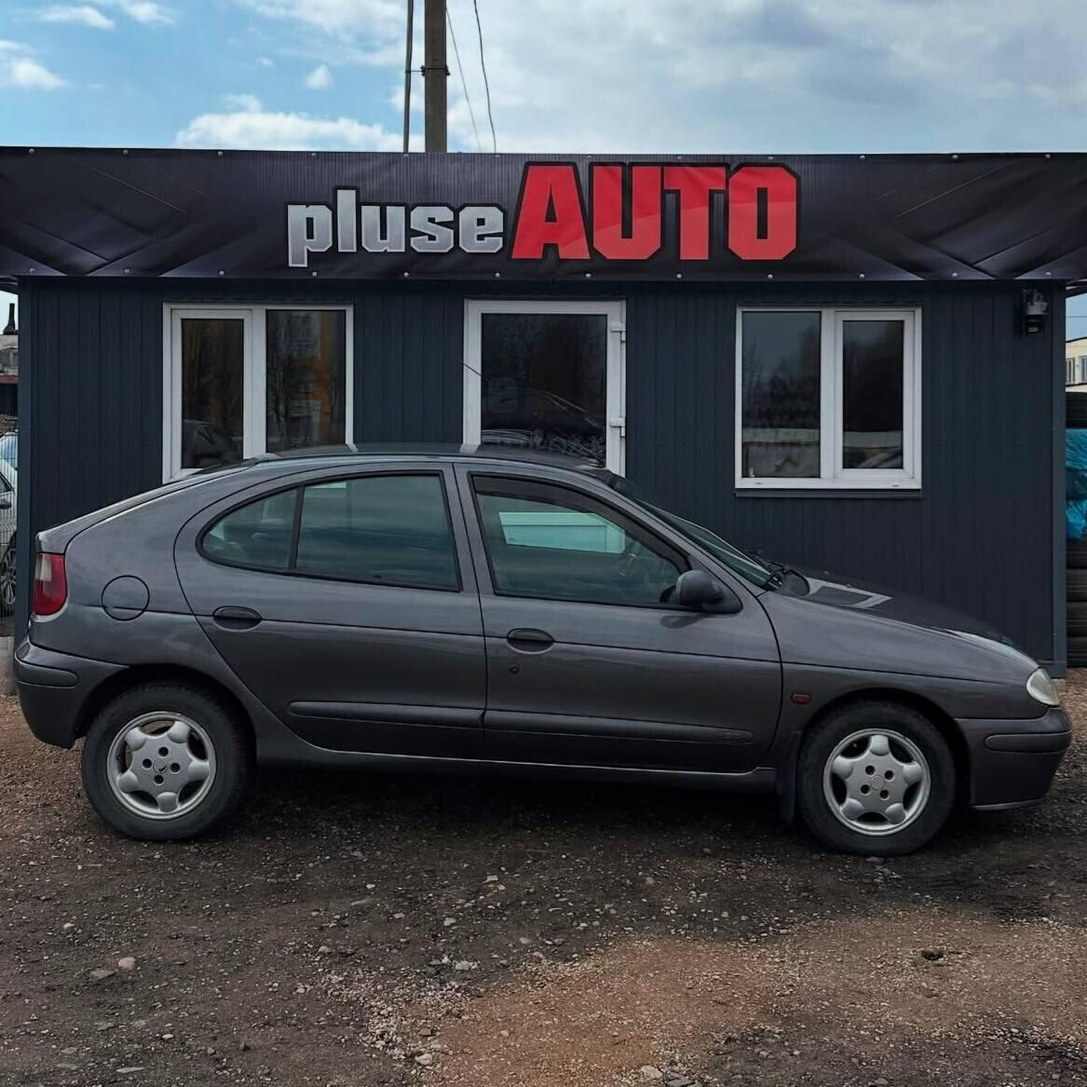Megane_1999-2003: (17, 447, 1071, 876)
